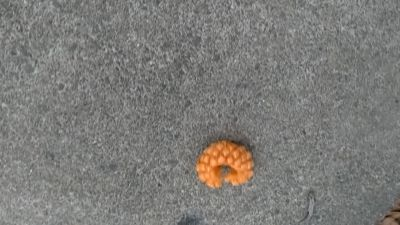eggs: (195, 139, 255, 192)
